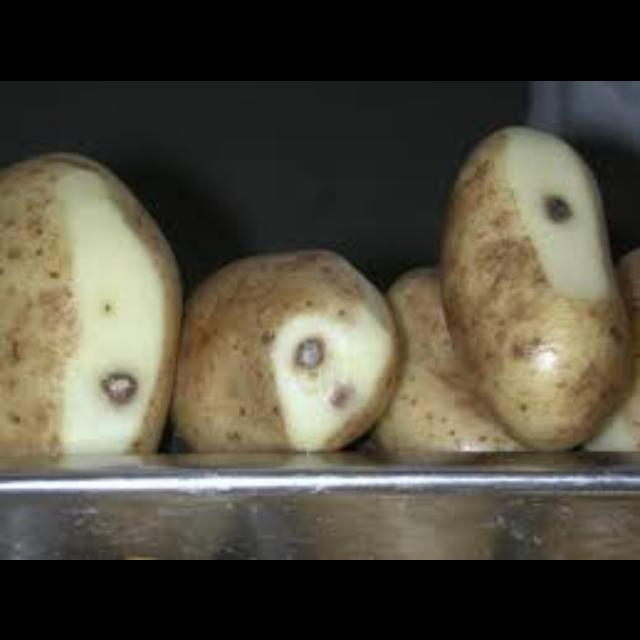Diseased-fungal potato: (426, 120, 624, 454), (0, 138, 182, 464), (166, 249, 402, 459)
